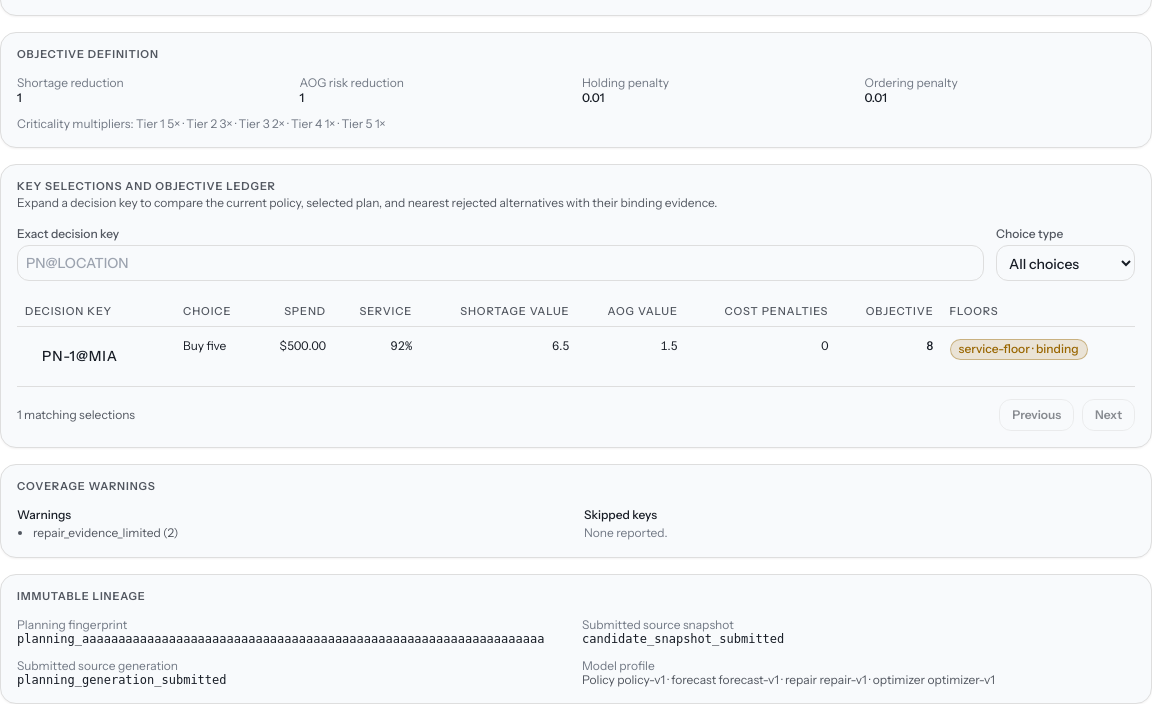
Test: PlanningRunDetail › drills into current, selected, and rejected numeric evidence
(page scrolled)
Click the button with aria-label "compare choices for pn-1@mia" at (80, 357), box [25,339,135,374]
(page scrolled)
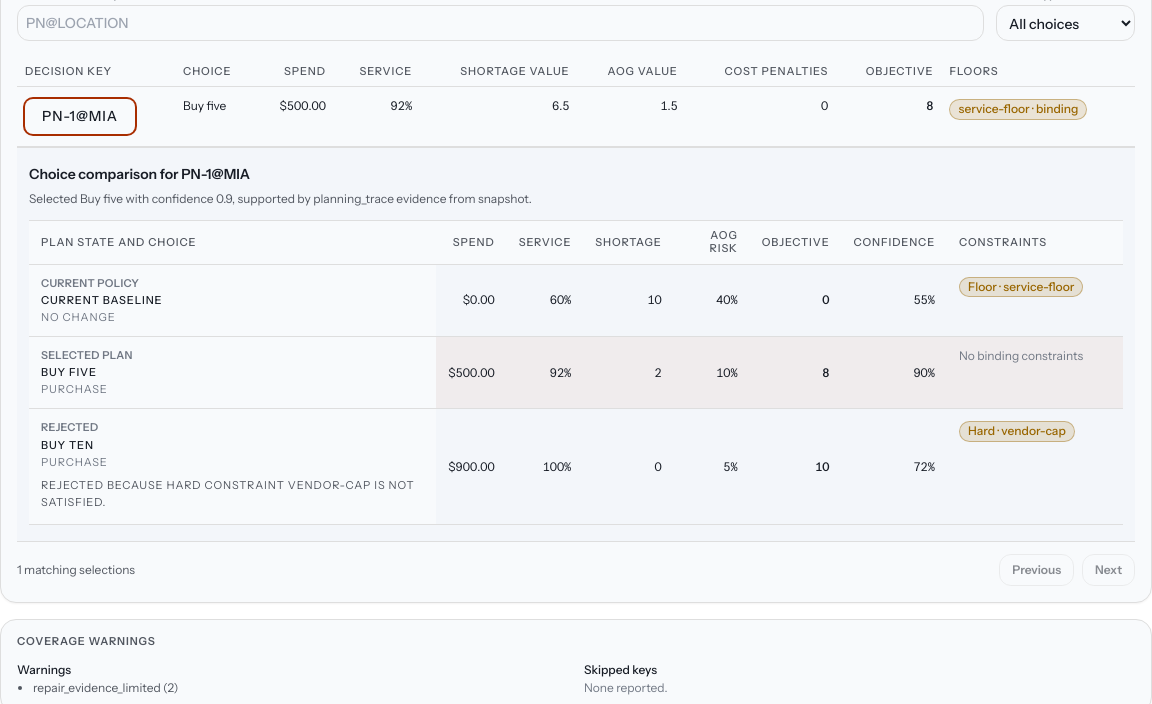
Expected: the row "Current policy Current baseline" shows "$0.00", [463,292,495,307]
Expected: the row "Current policy Current baseline" shows "60%", [550,292,571,307]
Expected: the row "Current policy Current baseline" shows "55%", [913,292,935,307]
